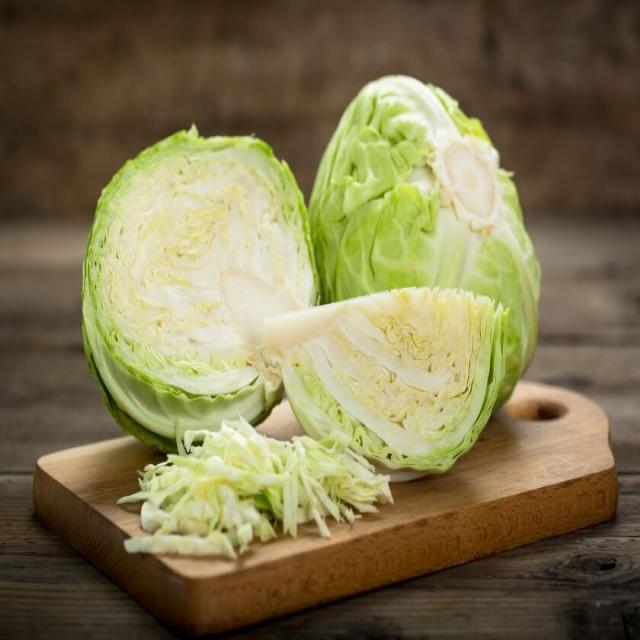cabbage: (315, 42, 538, 443), (92, 134, 321, 440), (256, 289, 538, 481)
